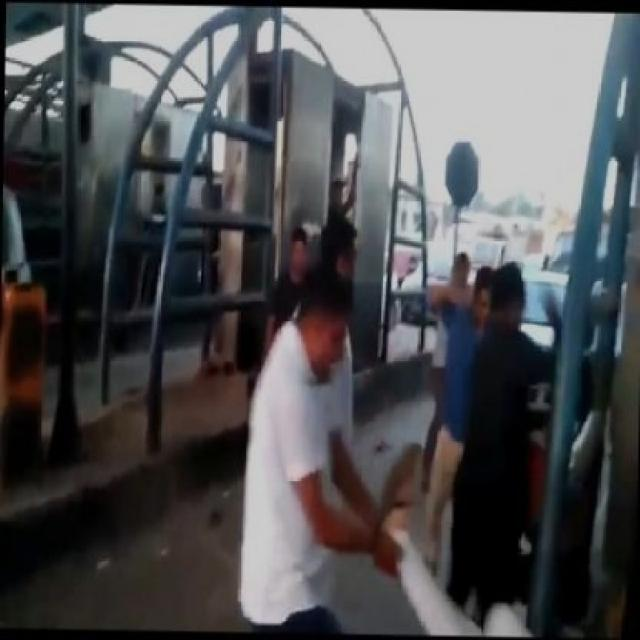fight: (239, 251, 575, 640)
non-fight: (428, 252, 556, 624)
